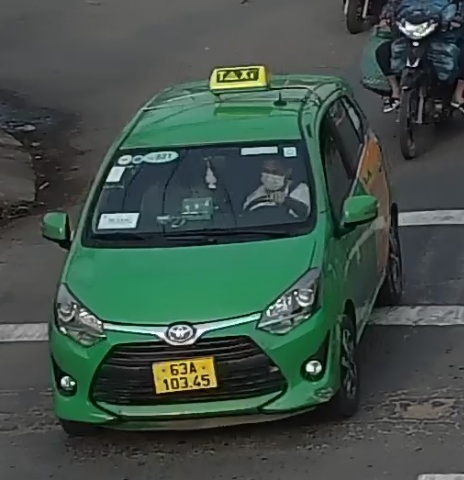vehicle plate: (143, 354, 224, 399)
